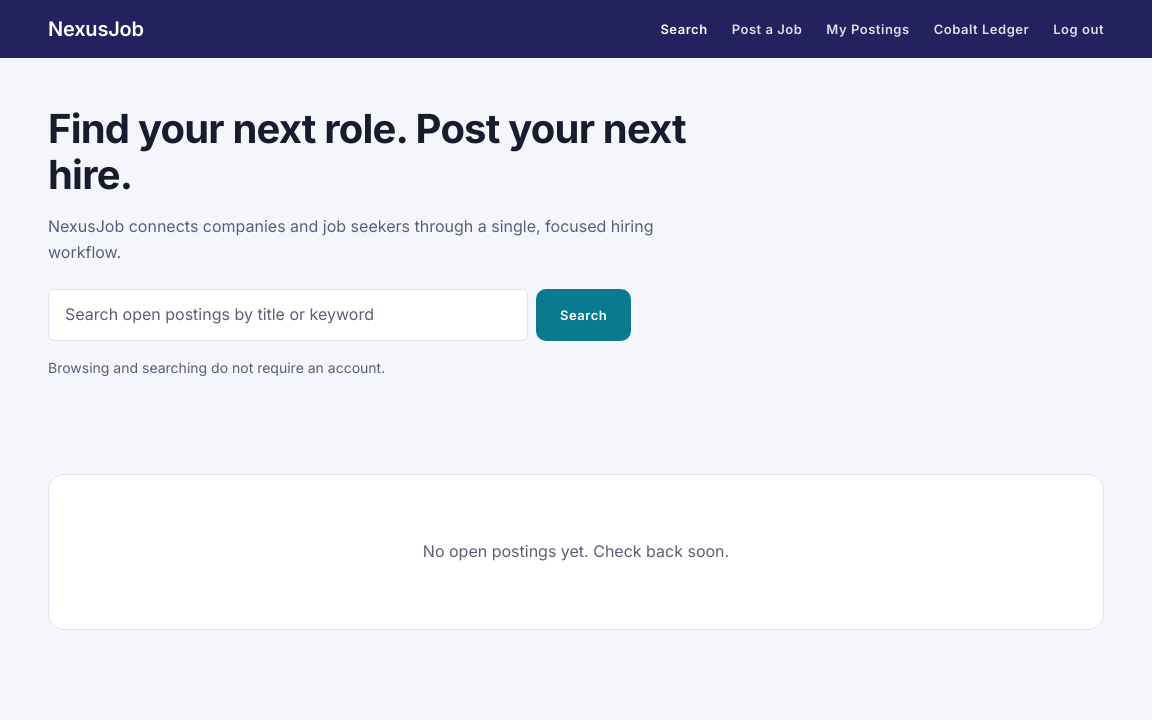
Test: App routing — signed-in Company viewer › still clears the session and returns to the anonymous shell when logout() rejects
// The rejected logout must not surface as an unhandled rejection from onClick.
Click the button "Log out" at x=1079, y=29, box left=1053, top=20, right=1104, bottom=38
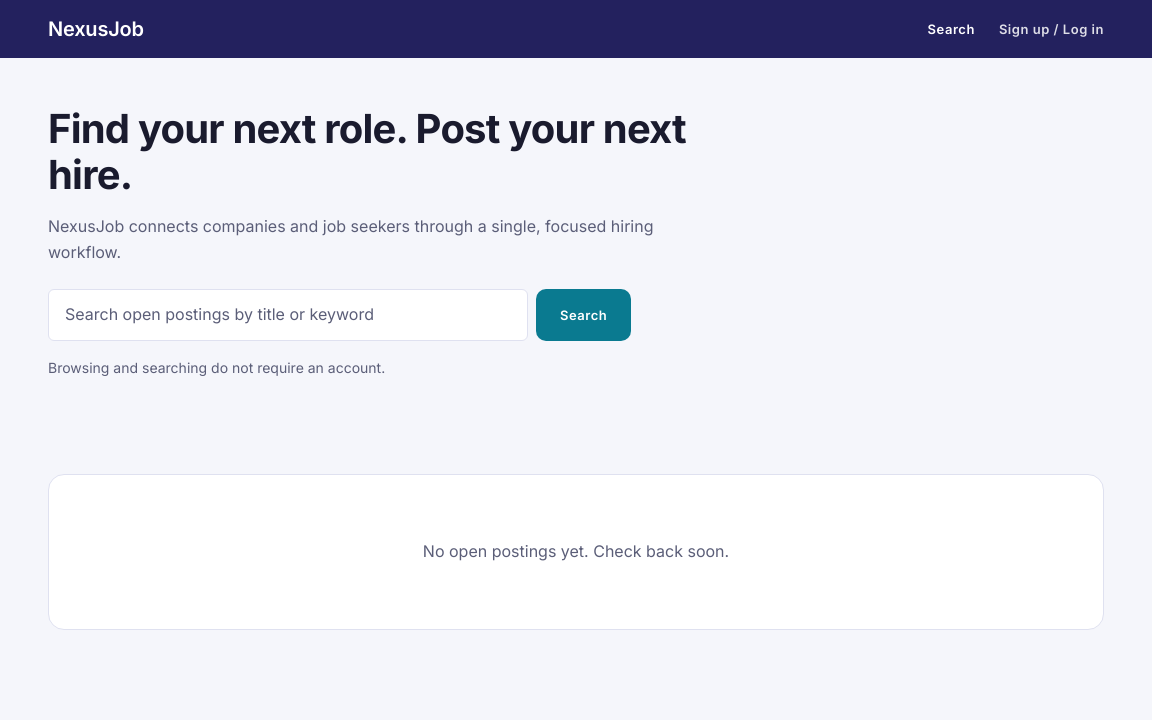
Expected: the link "Sign up / Log in" is shown, left=999, top=20, right=1104, bottom=38
Expected: the button "Log out" is gone
